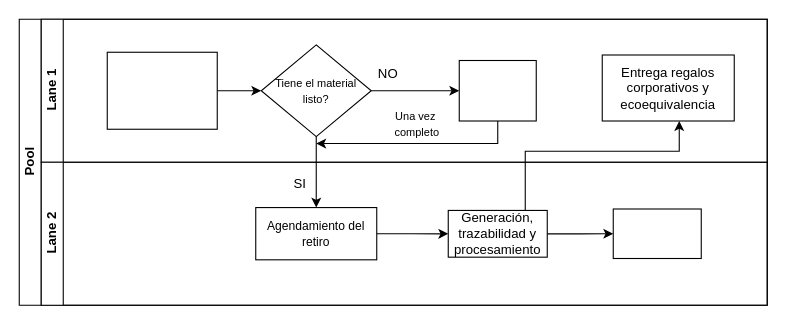
Some shapes in this 787 by 325 pixel diagram are drawn without their labels. Here are the shapes that lost their labels. From the top down, the centre of each, then its label:
At pixel 161 90: "Creacion del perfil cliente (encargado) e ingreso de data (Forulario)".
At pixel 497 90: "Entrega excel para carga masiva".
At pixel 656 233: "Dashboard de resultado en shopify".
